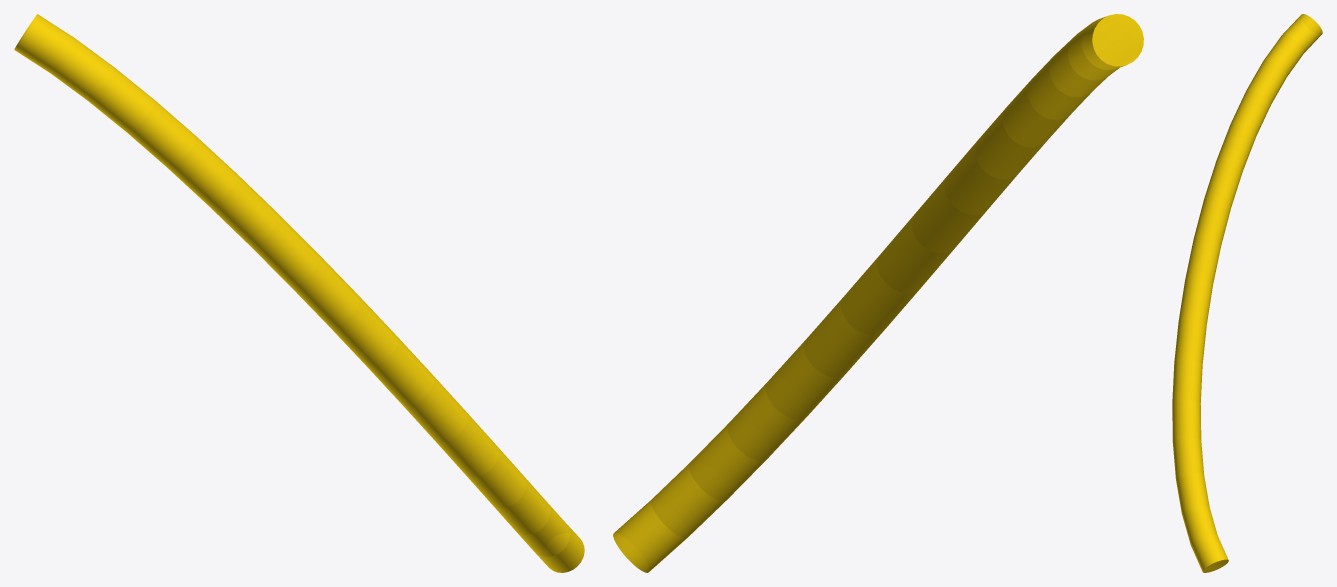
File: Event_420107950_track_47.fbx
The picture shows the model from 3 angles, left to right: view 1: azimuth 30°, elevation 25°; view 2: azimuth 150°, elevation 25°; view 3: azimuth 270°, elevation 25°; orthographic projection. The views are drawn at different scales.
Visible parts, largest first — view 1: Model; view 2: Model; view 3: Model.
Part boxes in pixels (left/top/right/bottom): Model: left=14, top=14, right=584, bottom=572; Model: left=613, top=14, right=1143, bottom=572; Model: left=1172, top=14, right=1322, bottom=572.
Bounding box in the file's own units: 0.5352 × 0.6321 × 0.2101.
